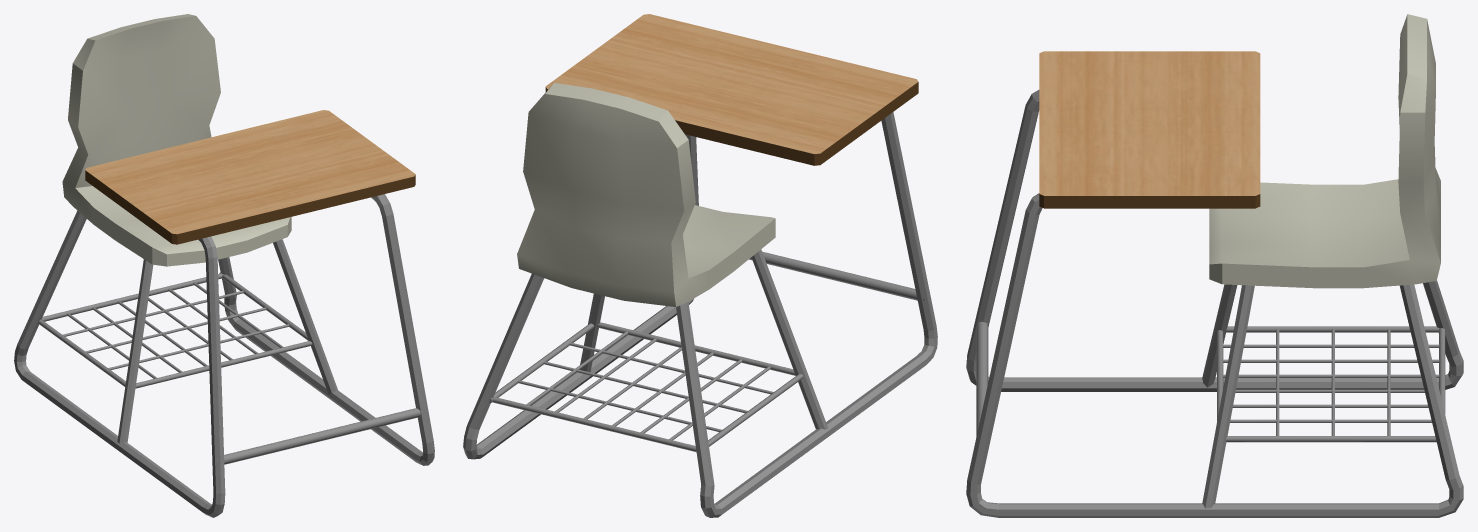
The model's file is table_001.FBX.
3 renders of one model, left to right at view 1: azimuth 30°, elevation 25°; view 2: azimuth 150°, elevation 25°; view 3: azimuth 270°, elevation 25°, orthographic. The views are drawn at different scales.
Parts seen in each view (by area): view 1: Box011; view 2: Box011; view 3: Box011.
Part boxes in pixels (x1,y1,x2,y2): Box011: (14,14,434,517); Box011: (463,14,937,517); Box011: (966,14,1463,517).
Size of the model in its own units: 6.48 by 8.65 by 9.42.
1 material, 1 textured.
